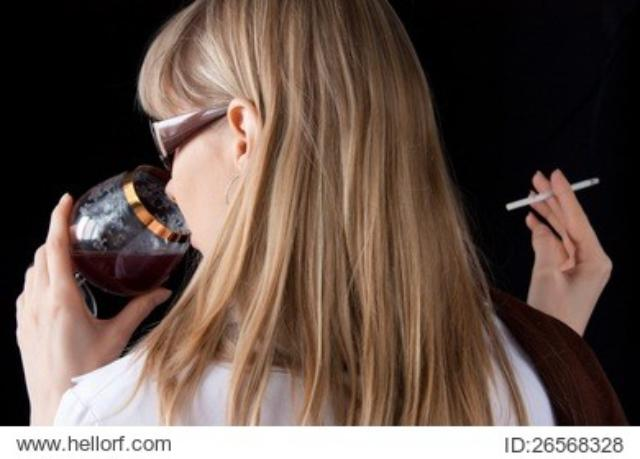Cigarette: (492, 173, 608, 211)
